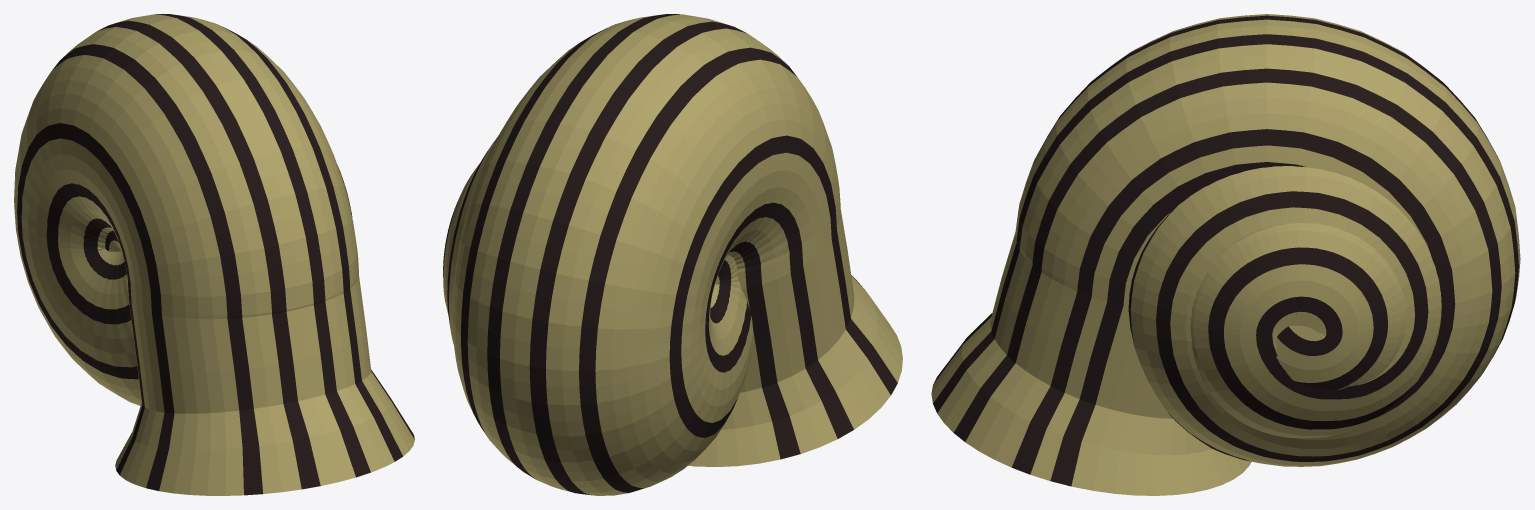
File: Snail Shell.fbx
3 renders of one model, left to right at view 1: azimuth 30°, elevation 25°; view 2: azimuth 150°, elevation 25°; view 3: azimuth 270°, elevation 25°, orthographic. The views are drawn at different scales.
Parts seen in each view (by area): view 1: Shield; view 2: Shield; view 3: Shield.
Part boxes in pixels (box(x1,y1,x2,y2)): Shield: box(14, 14, 414, 495); Shield: box(443, 14, 902, 495); Shield: box(931, 14, 1520, 495).
Bounding box in the file's own units: 209 × 276 × 348.
